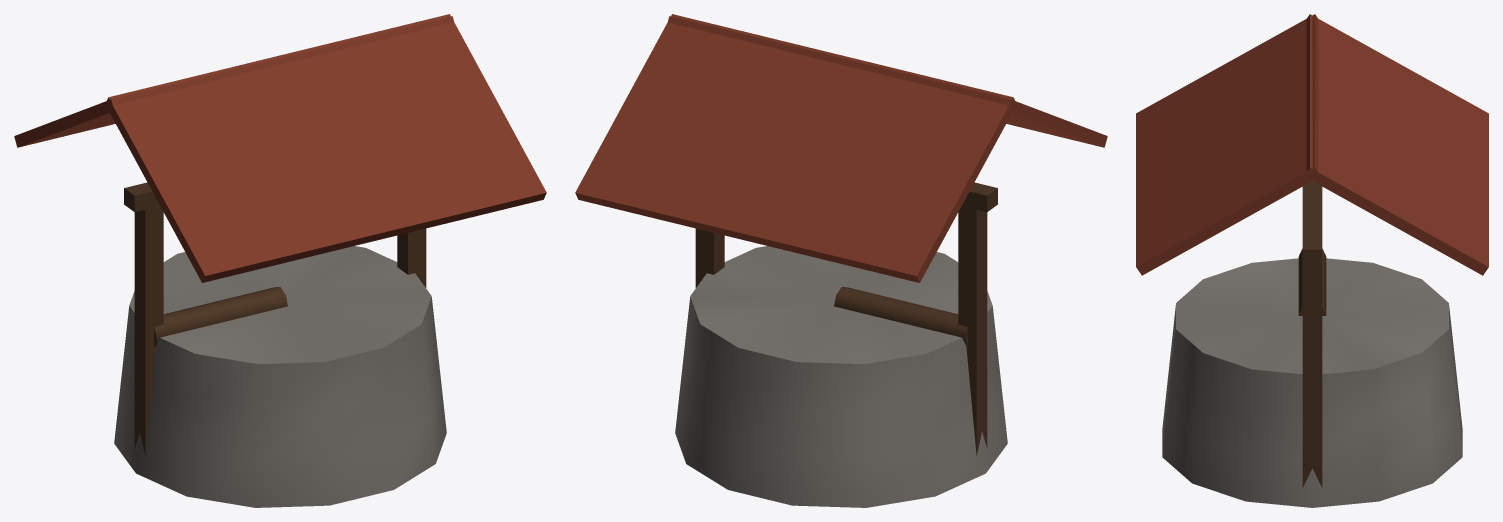
Rendered from poco.glb.
3 views of the same model, side by side, from view 1: azimuth 30°, elevation 25°; view 2: azimuth 150°, elevation 25°; view 3: azimuth 270°, elevation 25° (orthographic). The views are drawn at different scales.
Parts seen in each view (by area): view 1: Prop; view 2: Prop; view 3: Prop.
Part boxes in pixels (<box>): Prop: <box>14,14,546,507</box>; Prop: <box>575,14,1107,507</box>; Prop: <box>1136,14,1488,507</box>.
Size of the model in its own units: 2.6 by 2.78 by 2.52.
